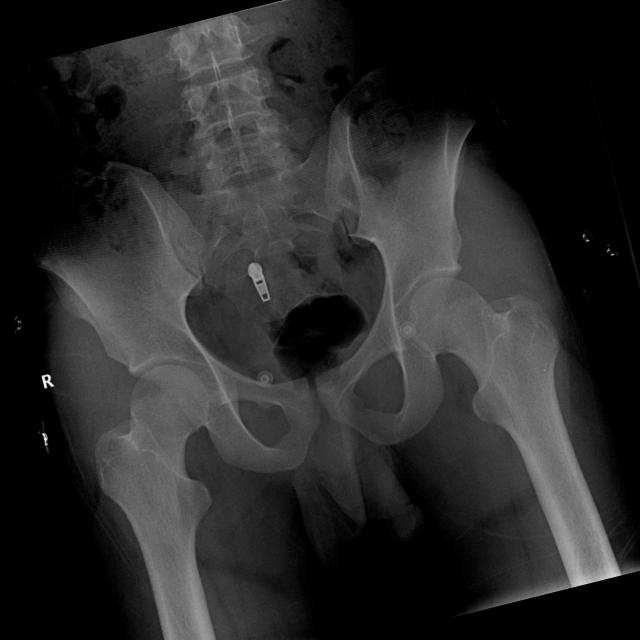normal-left: (409, 277, 598, 527)
normal-right: (95, 364, 210, 628)
